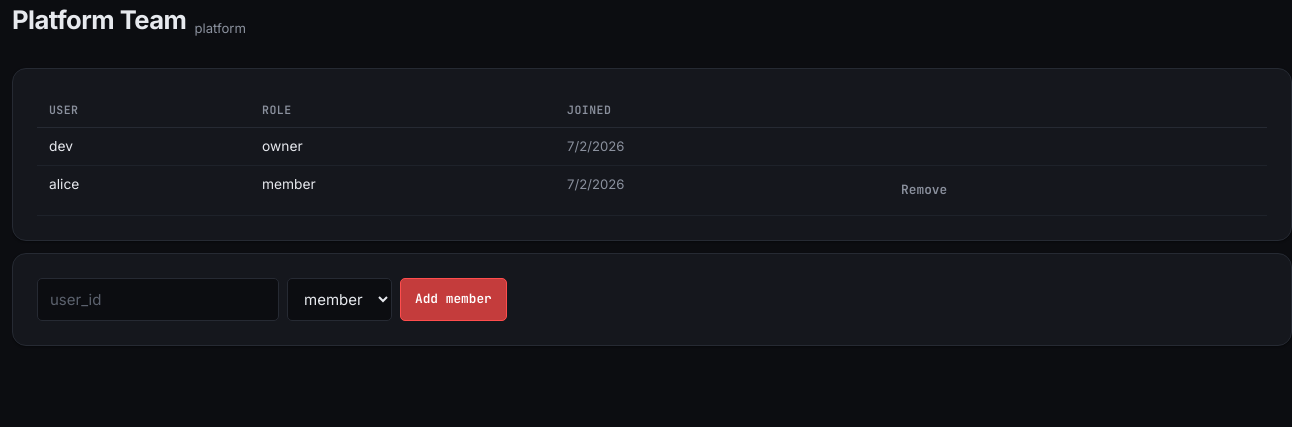
Test case: TeamDetailPage › surfaces a mutation failure
Expected: the text "alice" is shown, [37,165,250,215]
Click the button "Remove" at (924, 190), box [886,174,962,207]
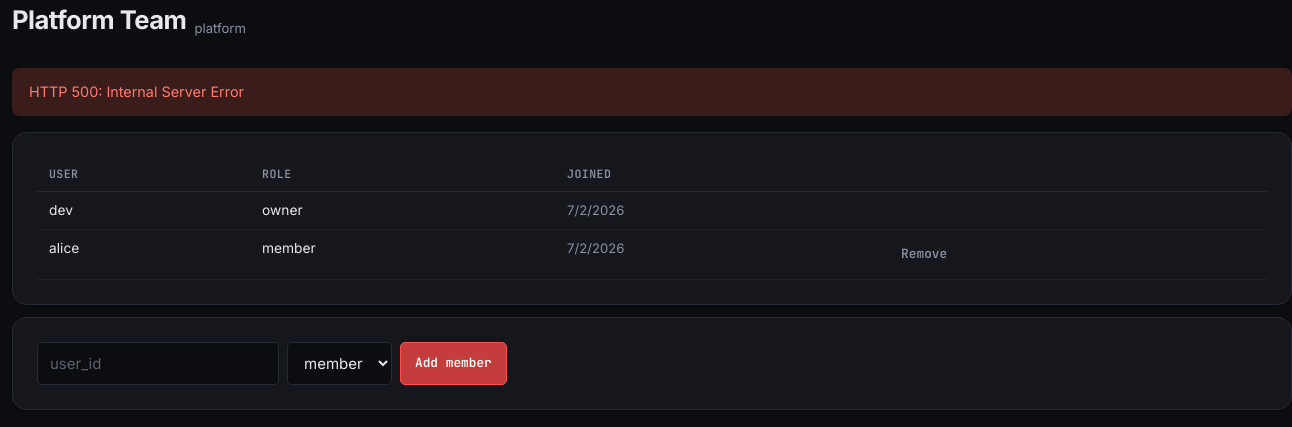
Expected: the text "HTTP 500: Internal Server Error" is shown, [12,68,1291,116]
